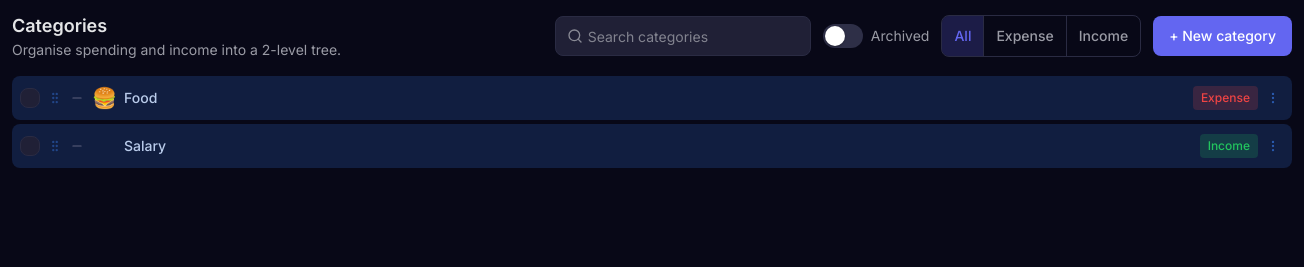
Categories page › selecting a row reveals the categories BulkActionBar action set
This screenshot has width=1304, height=267.
Click the checkbox named "Select Food" at (30, 98), box [20,88,40,108]
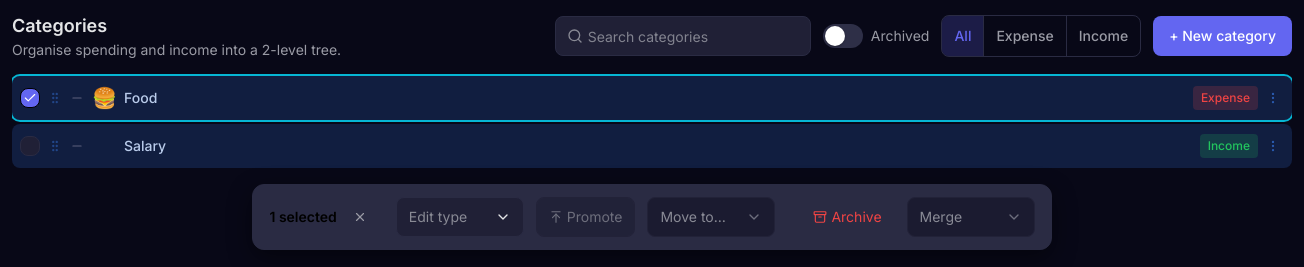
Result: the element with test id "bulk-action-bar" is shown at [252,184,1052,250]
Result: the button with test id "bulk-action-edit-type" is shown at [396,197,524,237]
Result: the button with test id "bulk-action-promote" is shown at [536,197,635,237]
